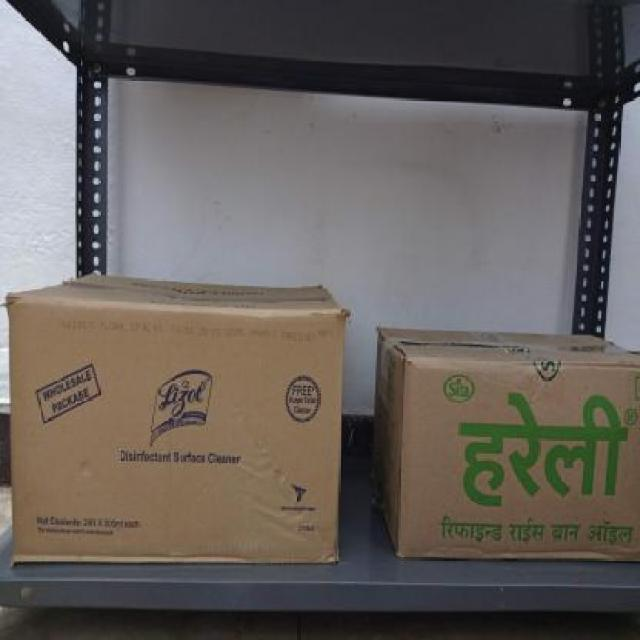box: (12, 310, 346, 564), (400, 358, 640, 562)
